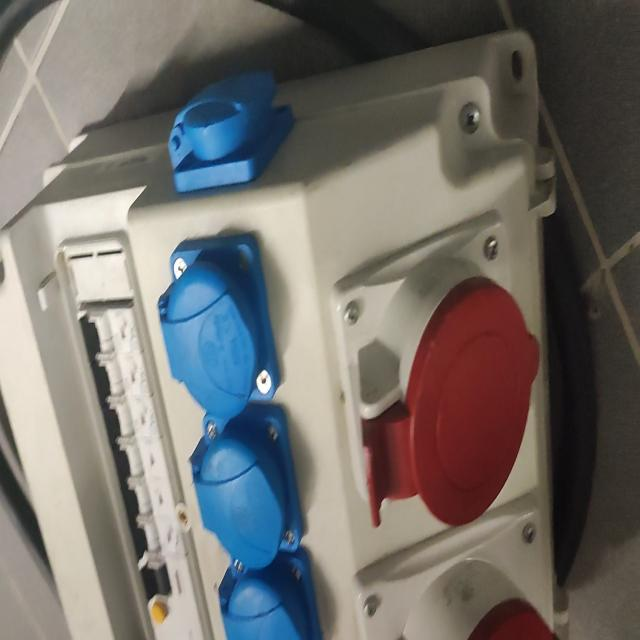400v socket: (330, 208, 541, 532), (355, 494, 558, 640)
house plug covered: (160, 233, 284, 412), (195, 403, 305, 567), (169, 74, 291, 194), (219, 557, 322, 640)
